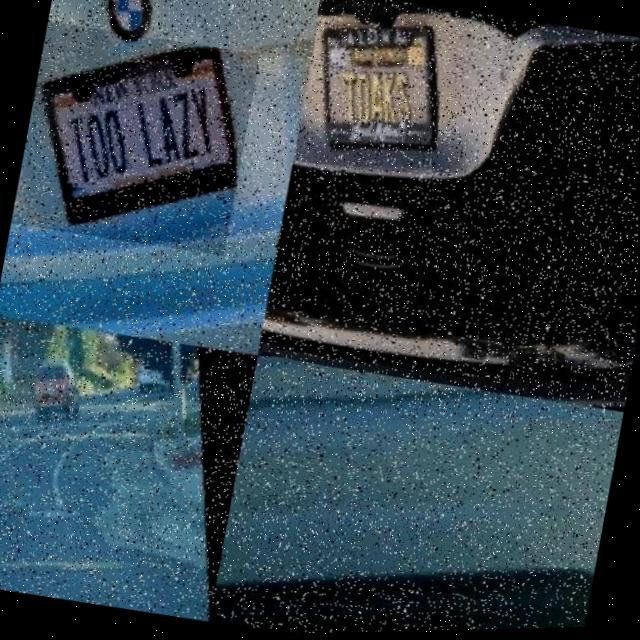LicensePlate: (34, 48, 235, 231), (292, 0, 459, 183), (255, 355, 399, 450), (42, 393, 51, 400)
